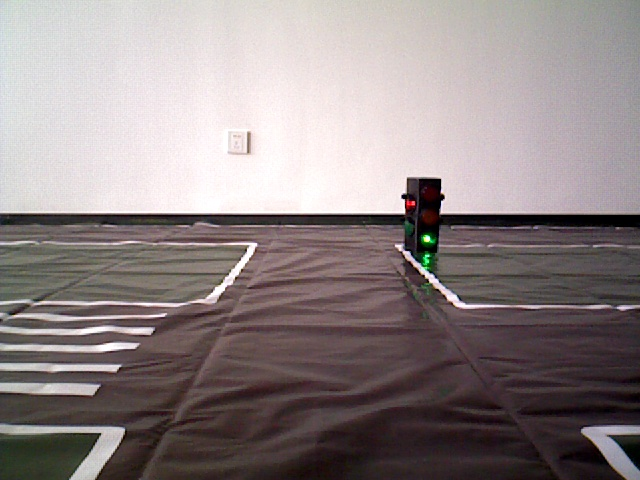green: (406, 176, 437, 247)
